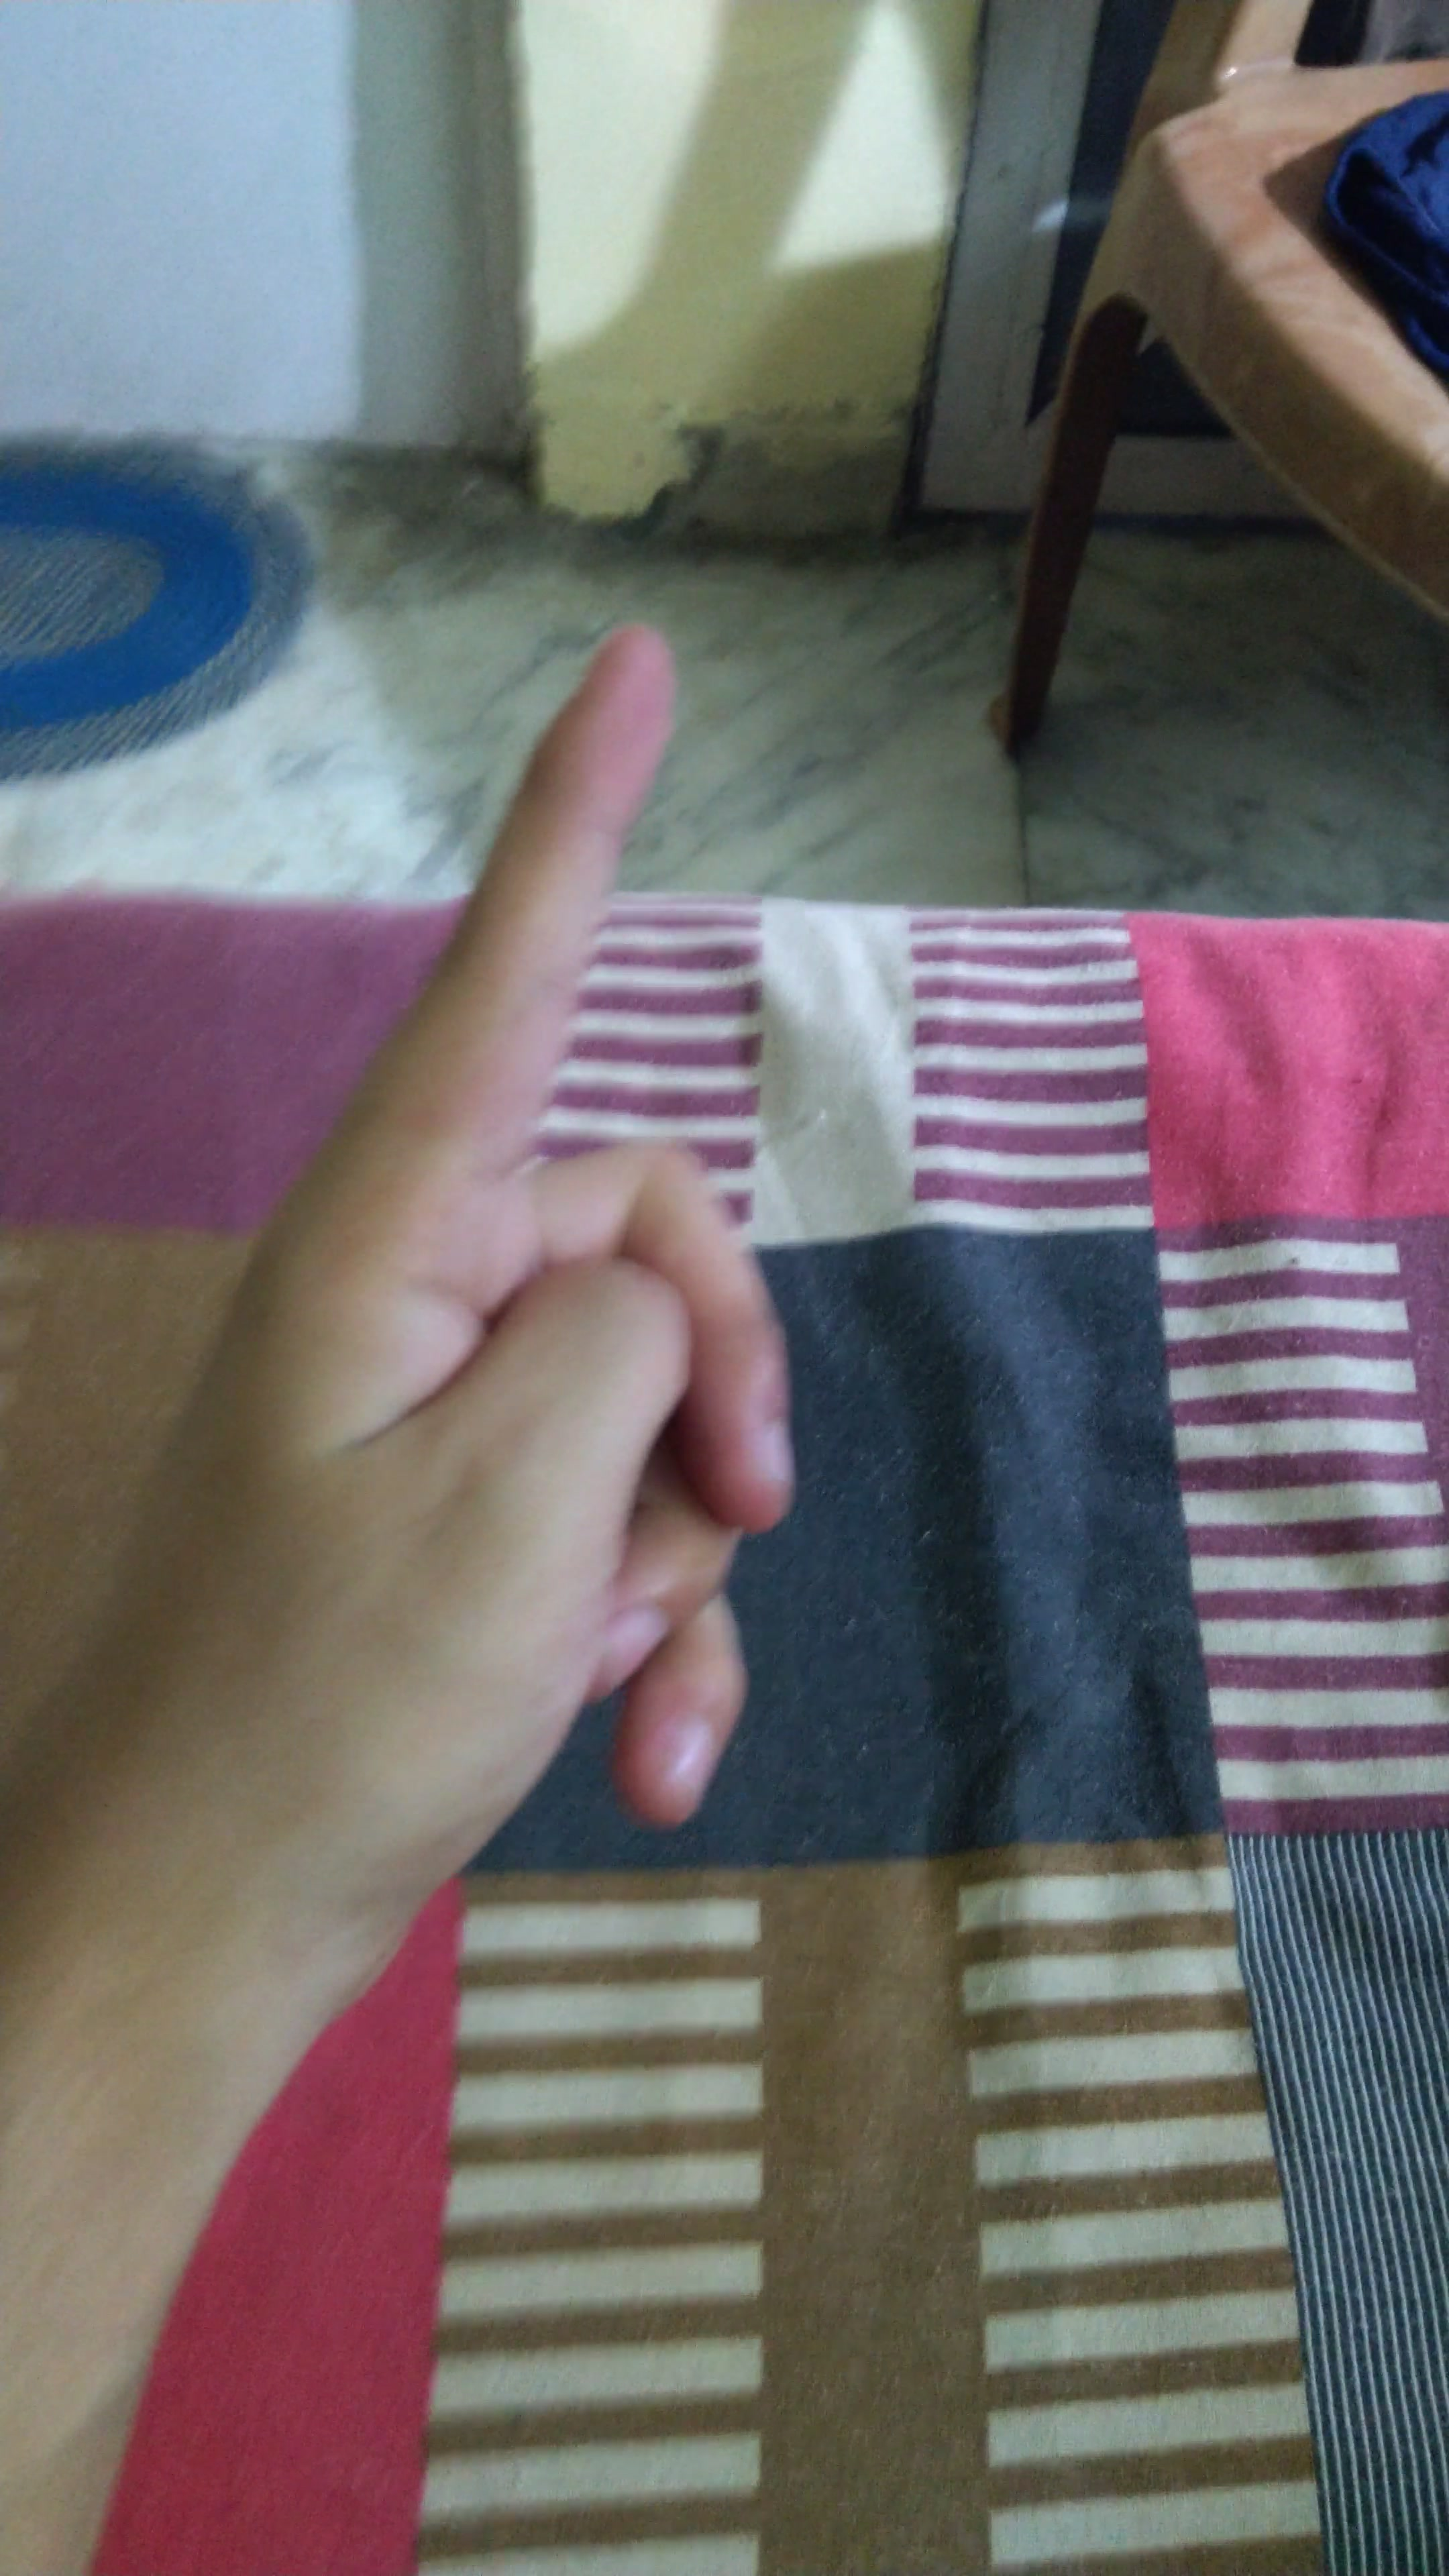hand: (103, 557, 980, 1939)
